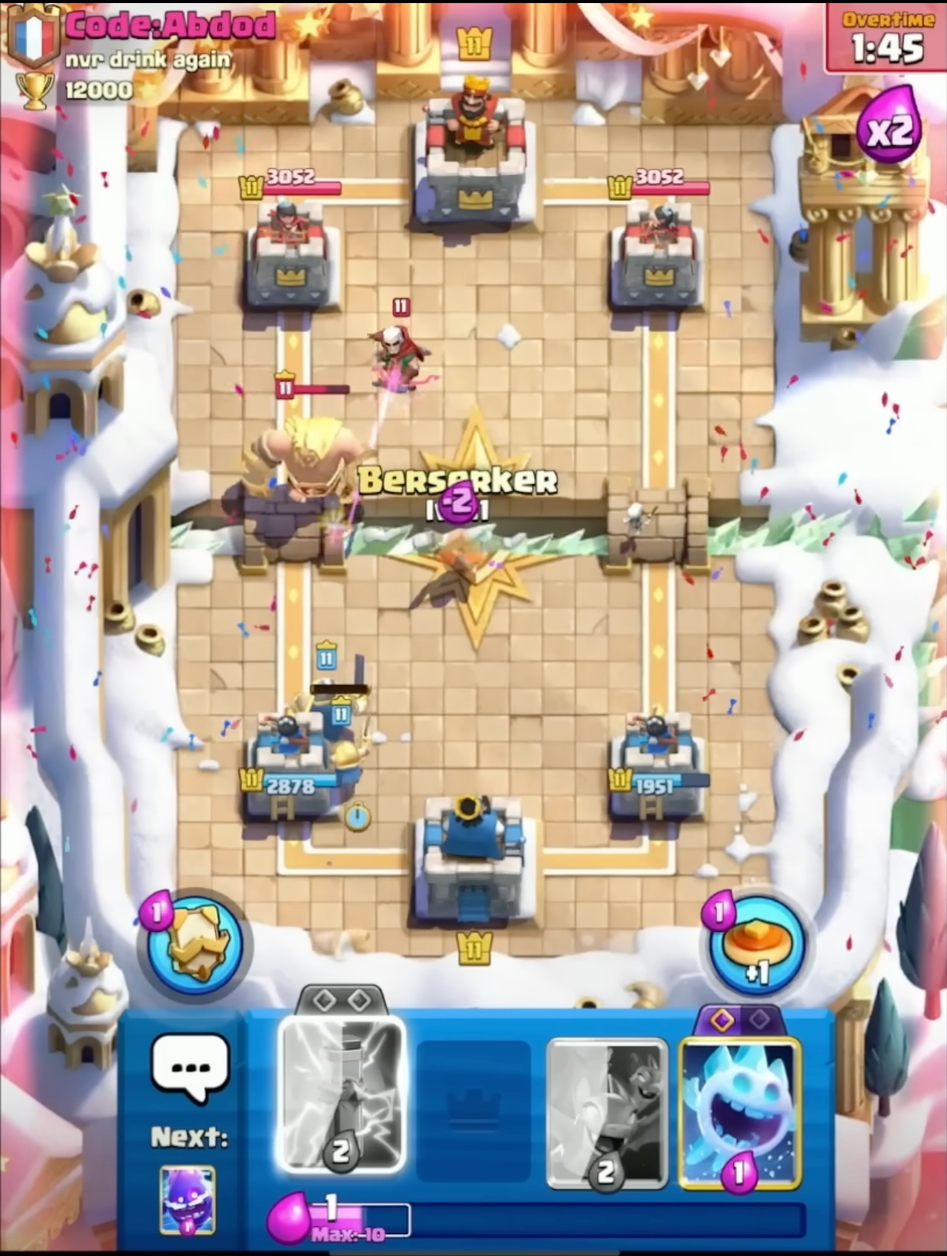hero-giant: (239, 371, 382, 522)
magic-archer: (365, 292, 450, 410)
